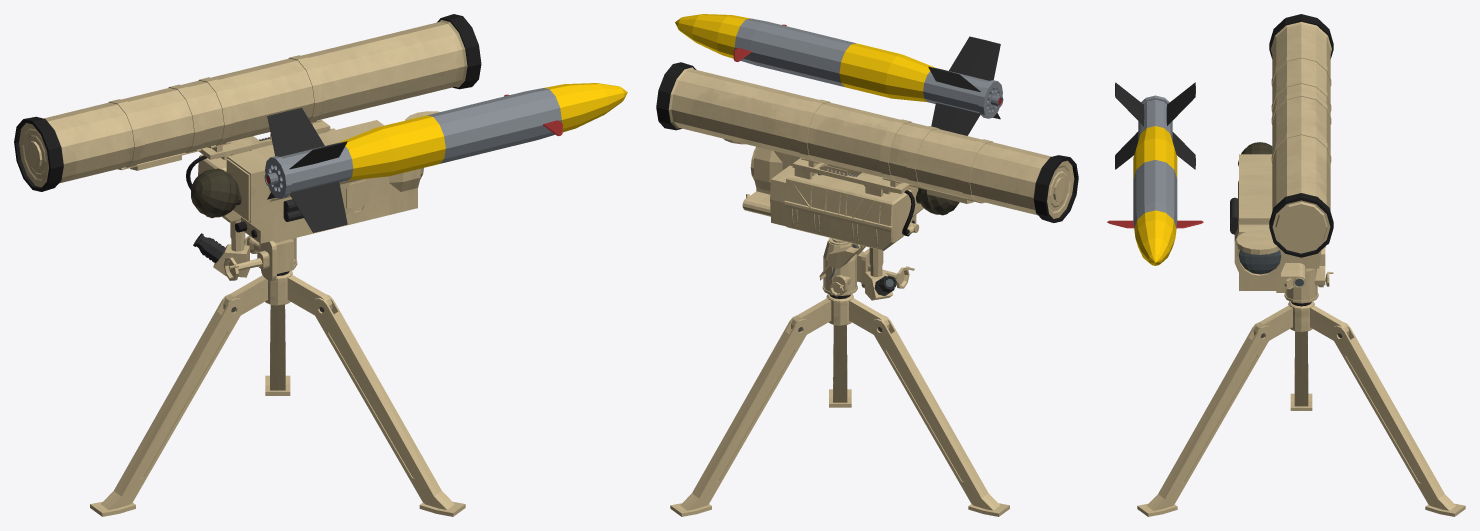
File: kornet.glb
3 renders of one model, left to right at view 1: azimuth 30°, elevation 25°; view 2: azimuth 150°, elevation 25°; view 3: azimuth 270°, elevation 25°, orthographic. The views are drawn at different scales.
Parts seen in each view (by area): view 1: ракетница, missile, стойка, комплекс; view 2: ракетница, missile, комплекс, стойка; view 3: ракетница, стойка, missile, комплекс.
Boxes of the visible parts, x1,y1,x2,y2 form: ракетница: [14, 14, 481, 191]; missile: [264, 83, 627, 232]; стойка: [90, 270, 465, 516]; комплекс: [186, 111, 439, 280]; ракетница: [656, 62, 1078, 222]; missile: [675, 14, 1003, 135]; комплекс: [723, 138, 959, 300]; стойка: [670, 294, 1009, 516]; ракетница: [1269, 14, 1333, 257]; стойка: [1137, 301, 1465, 516]; missile: [1107, 82, 1203, 265]; комплекс: [1230, 142, 1333, 306].
Size of the model in its own units: 9.31 by 7.22 by 6.46.
Materials: 2 (2 with a texture image).
